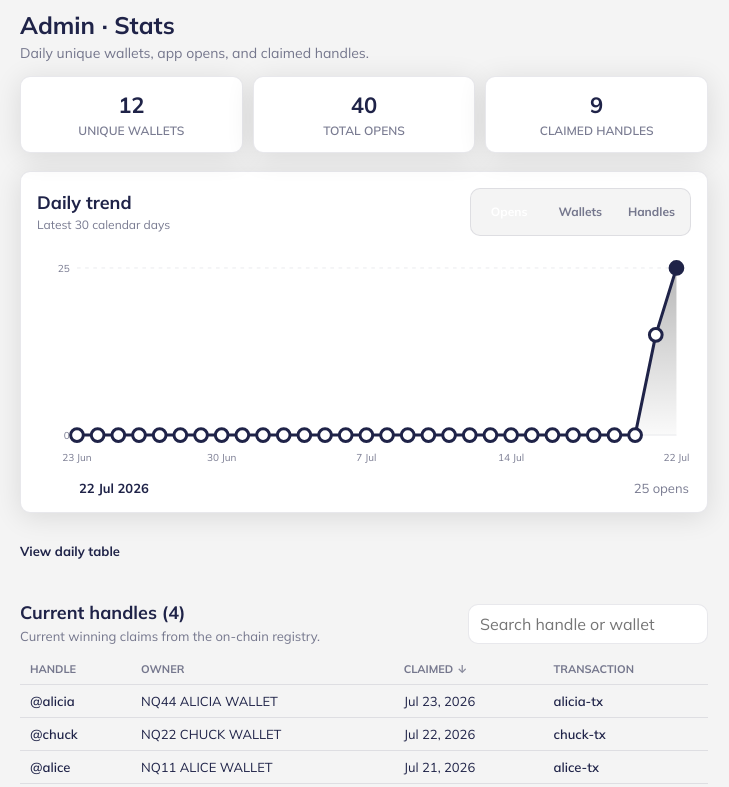
Test: AdminStatsPage › filters current handles by handle or compact wallet address
This screenshot has width=729, height=787.
Step 1. Type "chuck" into the search field with placeholder "Search handle or wallet" → (588,624), box x1=468 y1=604 x2=708 y2=644
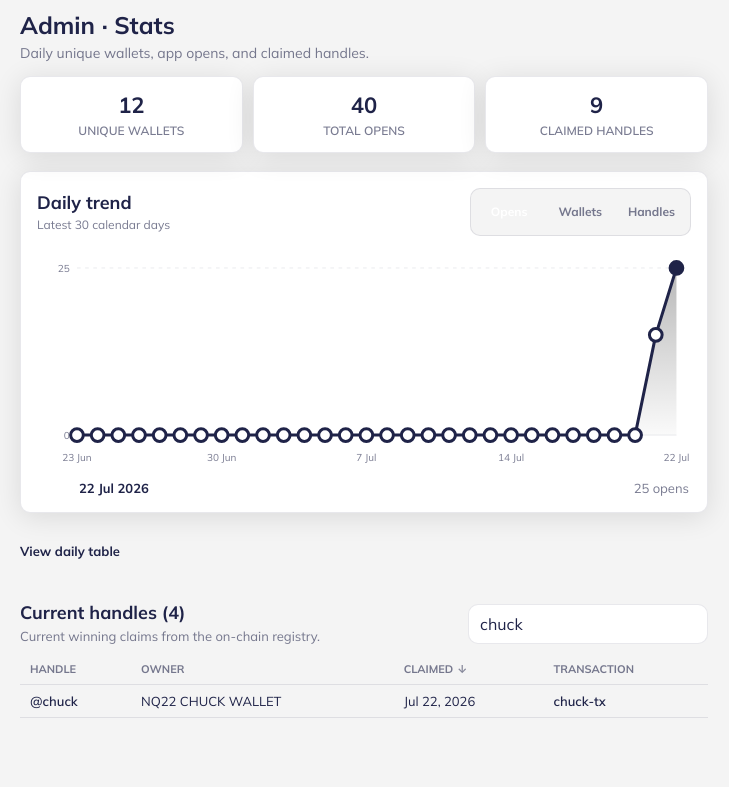
Expected: the text "@chuck" is shown, x1=30 y1=693 x2=78 y2=709
Now the text "@alice" is gone
Step 2. Replace the text in the search field named "Search current handles" with "NQ11ALICE" → (588,624), box x1=468 y1=604 x2=708 y2=644
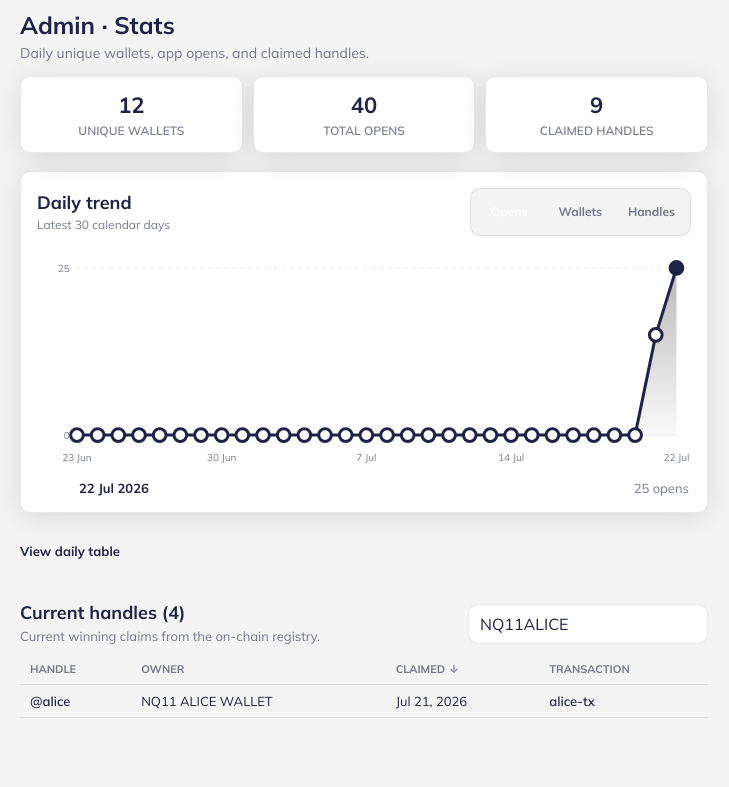
Now the text "@alice" is shown, box x1=30 y1=693 x2=70 y2=709
Now the text "@chuck" is gone
